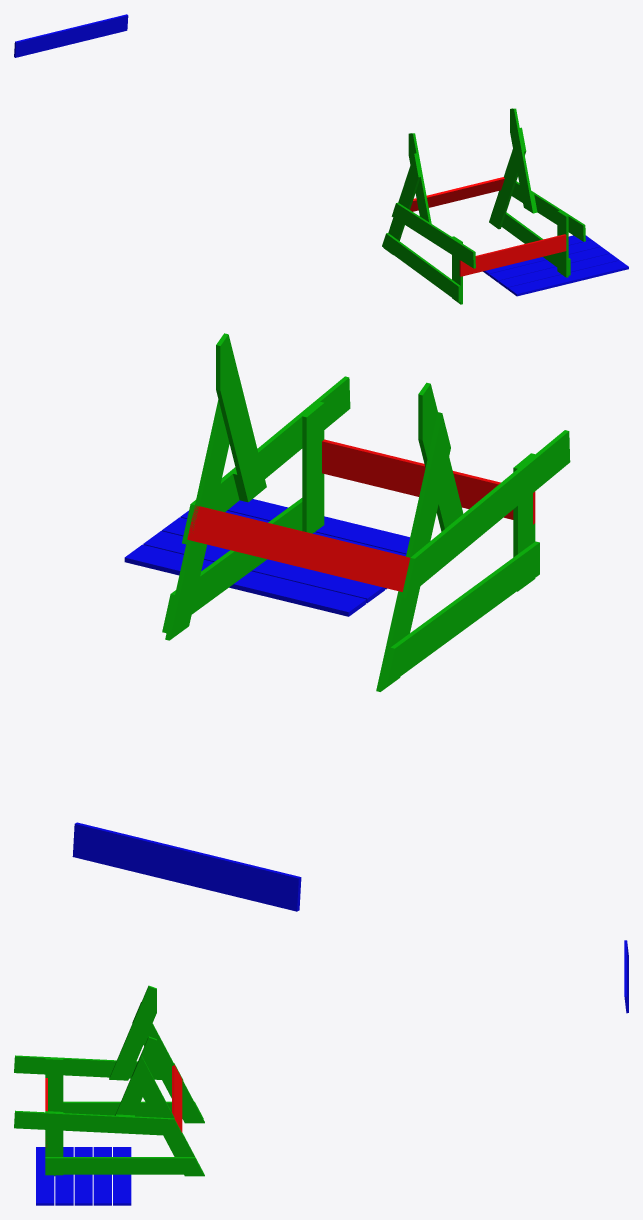
File: result.glb
3 renders of one model, top to bottom at view 1: azimuth 30°, elevation 25°; view 2: azimuth 150°, elevation 25°; view 3: azimuth 270°, elevation 25°, orthographic. The views are drawn at different scales.
Parts seen in each view (by area): view 1: b9ea0463-1fcf-499c-845c-dfea850eb84c__Box_8, ef4dd8f0-14ac-4760-b3b2-10fd4a412d58__Plane_1, 566fdabf-55ce-4f7e-a753-3369bbae54dd__undefined, c2eb9b2e-0661-4353-b5ca-5f2dbcff5595__undefined, 4fc12737-477c-45d7-97ab-27378088532e__Box_5, 69907042-b7a3-4ad9-819e-15dbd82671ee__Plane_2, 6bbc49c3-e617-4537-94d4-2c369bc7b07e__undefined, 3cd5fc39-47c5-412d-ae0c-36cc43dfd25e__Box_1, a23f463d-c839-47aa-b229-35e229e6c132__Box_2, 9df59cf9-c38f-474f-b93e-6331c8de4db3__undefined, 76312c28-cd1a-4061-9f7d-8ade0c40f1ce__undefined, d7561a4a-177e-4c61-b31c-dff4e2176f6e__undefined (+4 smaller); view 2: b9ea0463-1fcf-499c-845c-dfea850eb84c__Box_8, 69907042-b7a3-4ad9-819e-15dbd82671ee__Plane_2, 566fdabf-55ce-4f7e-a753-3369bbae54dd__undefined, c2eb9b2e-0661-4353-b5ca-5f2dbcff5595__undefined, d7561a4a-177e-4c61-b31c-dff4e2176f6e__undefined (×2), ef4dd8f0-14ac-4760-b3b2-10fd4a412d58__Plane_1, 76312c28-cd1a-4061-9f7d-8ade0c40f1ce__undefined, 6bbc49c3-e617-4537-94d4-2c369bc7b07e__undefined, 7343c915-94d5-4b8b-a38f-459903de570f__Box_4, 9df59cf9-c38f-474f-b93e-6331c8de4db3__undefined, 918cf997-a0f0-4d02-82e0-309b74f21bc5__Box_3, ff8b871a-d61b-4328-bfc1-df74add0b1c3__Plane (+4 smaller); view 3: 9df59cf9-c38f-474f-b93e-6331c8de4db3__undefined, ff8b871a-d61b-4328-bfc1-df74add0b1c3__Plane, d7561a4a-177e-4c61-b31c-dff4e2176f6e__undefined (×2), 944c6b9f-378f-434e-b733-0446dc25585f__undefined, 566fdabf-55ce-4f7e-a753-3369bbae54dd__undefined, 76312c28-cd1a-4061-9f7d-8ade0c40f1ce__undefined, 6bbc49c3-e617-4537-94d4-2c369bc7b07e__undefined, c2eb9b2e-0661-4353-b5ca-5f2dbcff5595__undefined, 6b1707e8-f6d9-412f-8173-ddd3cc63f7b5__undefined, 4fc12737-477c-45d7-97ab-27378088532e__Box_5, a23f463d-c839-47aa-b229-35e229e6c132__Box_2, 918cf997-a0f0-4d02-82e0-309b74f21bc5__Box_3 (+4 smaller).
Part boxes in pixels (box(x1,y1,x2,y2)): b9ea0463-1fcf-499c-845c-dfea850eb84c__Box_8: box(14, 14, 128, 57); ef4dd8f0-14ac-4760-b3b2-10fd4a412d58__Plane_1: box(459, 234, 568, 276); 566fdabf-55ce-4f7e-a753-3369bbae54dd__undefined: box(391, 202, 475, 268); c2eb9b2e-0661-4353-b5ca-5f2dbcff5595__undefined: box(382, 233, 460, 302); 4fc12737-477c-45d7-97ab-27378088532e__Box_5: box(508, 260, 628, 296); 69907042-b7a3-4ad9-819e-15dbd82671ee__Plane_2: box(410, 177, 504, 211); 6bbc49c3-e617-4537-94d4-2c369bc7b07e__undefined: box(510, 108, 535, 213); 3cd5fc39-47c5-412d-ae0c-36cc43dfd25e__Box_1: box(498, 253, 619, 289); a23f463d-c839-47aa-b229-35e229e6c132__Box_2: box(489, 246, 610, 282); 9df59cf9-c38f-474f-b93e-6331c8de4db3__undefined: box(511, 181, 585, 241); 76312c28-cd1a-4061-9f7d-8ade0c40f1ce__undefined: box(384, 153, 420, 254); d7561a4a-177e-4c61-b31c-dff4e2176f6e__undefined: box(489, 127, 526, 229); b9ea0463-1fcf-499c-845c-dfea850eb84c__Box_8: box(72, 822, 301, 911); 69907042-b7a3-4ad9-819e-15dbd82671ee__Plane_2: box(187, 505, 410, 591); 566fdabf-55ce-4f7e-a753-3369bbae54dd__undefined: box(401, 430, 570, 597); c2eb9b2e-0661-4353-b5ca-5f2dbcff5595__undefined: box(382, 541, 539, 686); d7561a4a-177e-4c61-b31c-dff4e2176f6e__undefined (×2): box(165, 400, 229, 640); ef4dd8f0-14ac-4760-b3b2-10fd4a412d58__Plane_1: box(322, 439, 535, 524); 76312c28-cd1a-4061-9f7d-8ade0c40f1ce__undefined: box(376, 412, 450, 691); 6bbc49c3-e617-4537-94d4-2c369bc7b07e__undefined: box(216, 333, 266, 502); 7343c915-94d5-4b8b-a38f-459903de570f__Box_4: box(124, 544, 366, 616); 9df59cf9-c38f-474f-b93e-6331c8de4db3__undefined: box(182, 376, 350, 544); 918cf997-a0f0-4d02-82e0-309b74f21bc5__Box_3: box(143, 531, 384, 603); ff8b871a-d61b-4328-bfc1-df74add0b1c3__Plane: box(162, 498, 302, 633); 9df59cf9-c38f-474f-b93e-6331c8de4db3__undefined: box(14, 1110, 183, 1136); ff8b871a-d61b-4328-bfc1-df74add0b1c3__Plane: box(45, 1157, 203, 1174); d7561a4a-177e-4c61-b31c-dff4e2176f6e__undefined (×2): box(132, 1055, 204, 1176); 944c6b9f-378f-434e-b733-0446dc25585f__undefined: box(109, 985, 156, 1080); 566fdabf-55ce-4f7e-a753-3369bbae54dd__undefined: box(14, 1055, 183, 1080); 76312c28-cd1a-4061-9f7d-8ade0c40f1ce__undefined: box(132, 1002, 204, 1123); 6bbc49c3-e617-4537-94d4-2c369bc7b07e__undefined: box(115, 1036, 156, 1115); c2eb9b2e-0661-4353-b5ca-5f2dbcff5595__undefined: box(63, 1101, 203, 1118); 6b1707e8-f6d9-412f-8173-ddd3cc63f7b5__undefined: box(45, 1058, 63, 1111); 4fc12737-477c-45d7-97ab-27378088532e__Box_5: box(36, 1147, 54, 1205); a23f463d-c839-47aa-b229-35e229e6c132__Box_2: box(74, 1147, 92, 1205); 918cf997-a0f0-4d02-82e0-309b74f21bc5__Box_3: box(93, 1147, 111, 1205).
Bounding box in the file's own units: 1928 × 758 × 3040.
